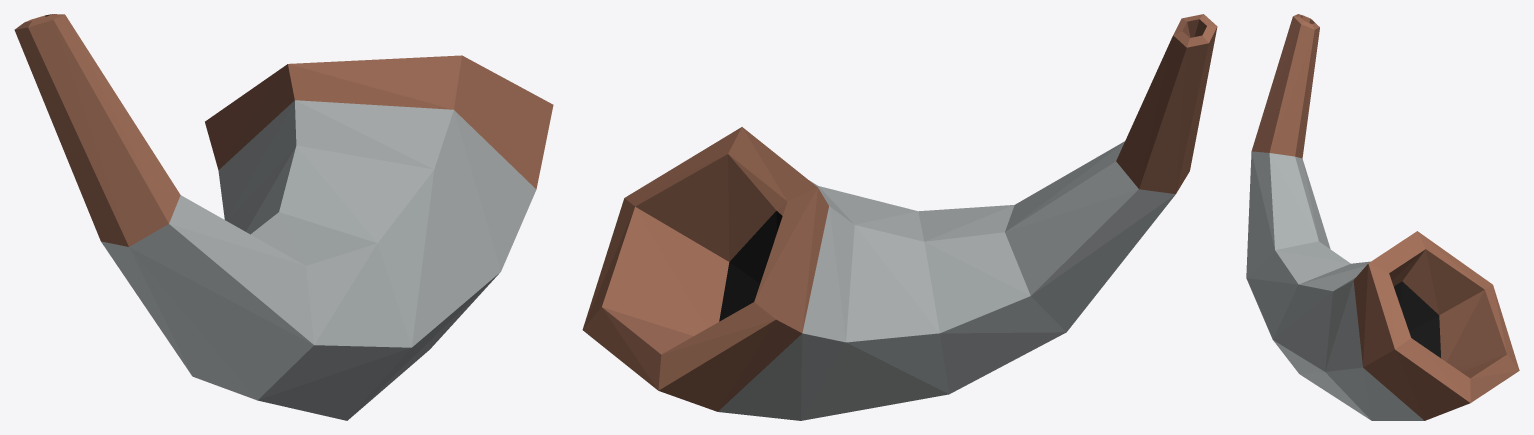
File: trinketHorn1.fbx
3 views of the same model, side by side, from view 1: azimuth 30°, elevation 25°; view 2: azimuth 150°, elevation 25°; view 3: azimuth 270°, elevation 25° (orthographic). The views are drawn at different scales.
Parts seen in each view (by area): view 1: trinketHorn1; view 2: trinketHorn1; view 3: trinketHorn1.
Part boxes in pixels (x1,y1,x2,y2): trinketHorn1: (14, 14, 553, 420); trinketHorn1: (582, 14, 1217, 420); trinketHorn1: (1246, 14, 1519, 420).
Bounding box in the file's own units: 1.75 × 1.34 × 1.18.
Materials: 1 (1 with a texture image).
